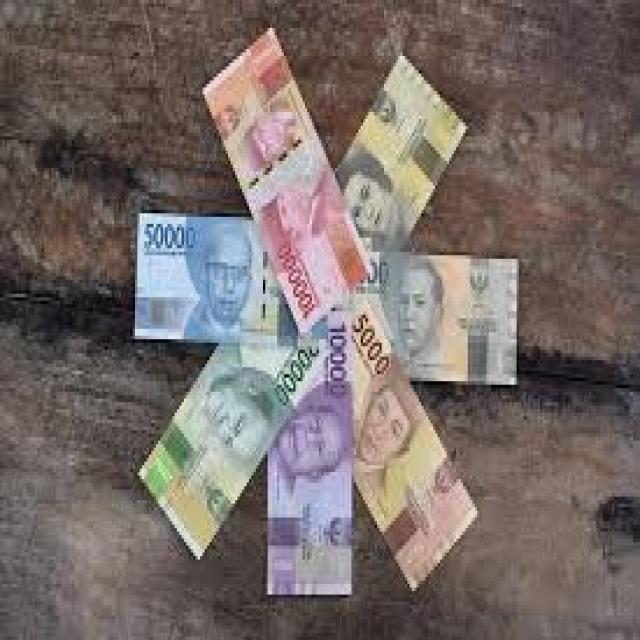dua puluh ribu rupiah: (137, 341, 332, 564)
dua ribu rupiah: (337, 253, 522, 390)
lima puluh ribu rupiah: (132, 213, 331, 342)
lima ribu rupiah: (354, 297, 480, 597)
sepuluh ribu rupiah: (269, 309, 354, 598)
seratus ribu rupiah: (202, 26, 377, 336)
seribu rupiah: (335, 54, 471, 256)
